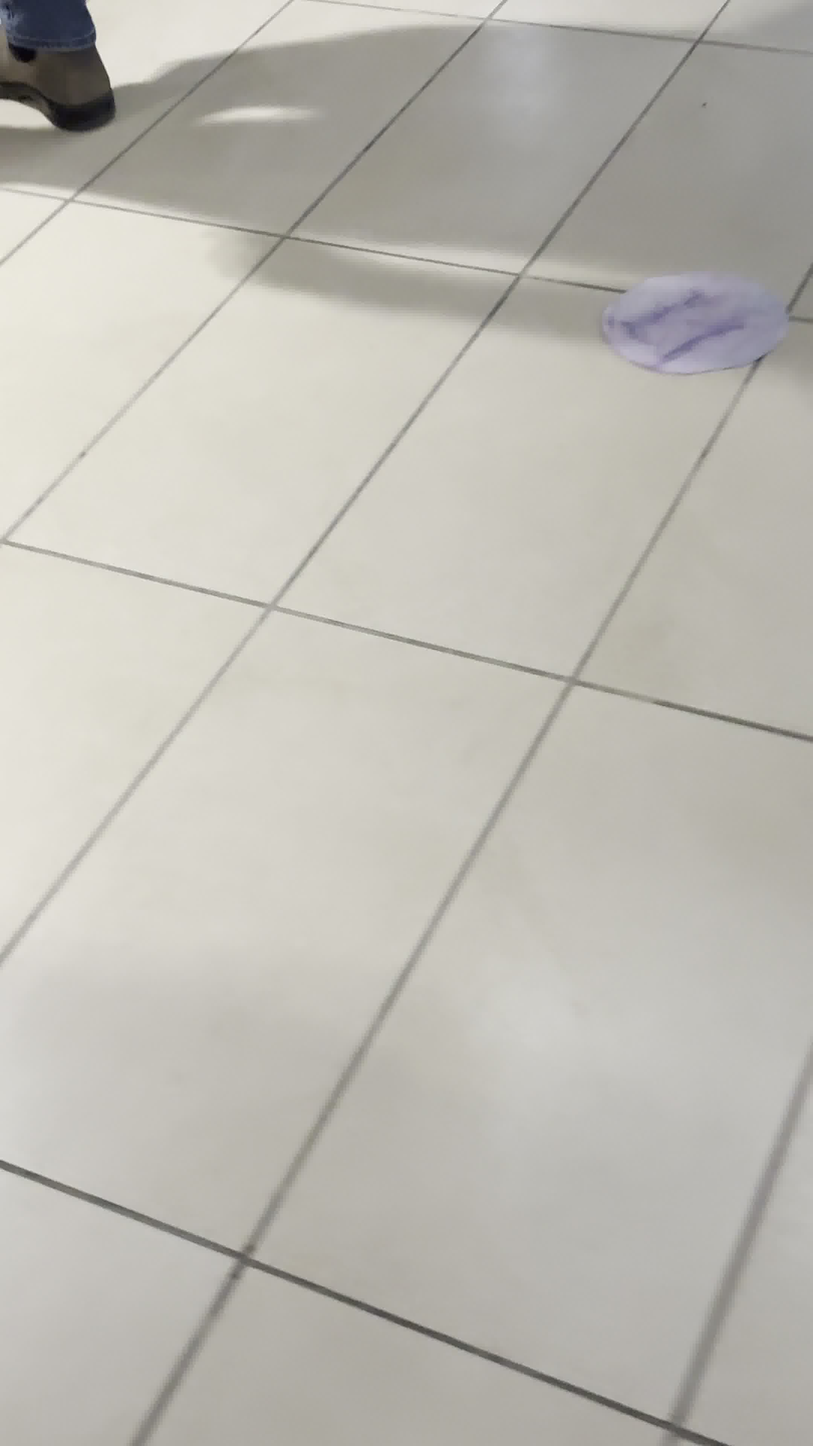Target: (602, 271, 784, 376)
